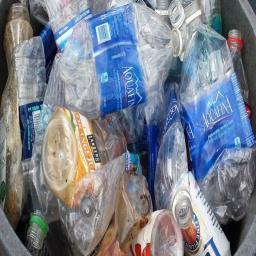plastic: (33, 0, 256, 256), (0, 0, 95, 256), (60, 178, 113, 256), (168, 0, 203, 109), (136, 122, 163, 195), (229, 30, 249, 108)
